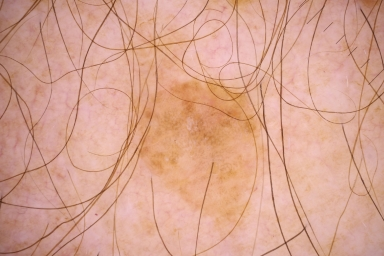nevus: (135, 83, 256, 223)
